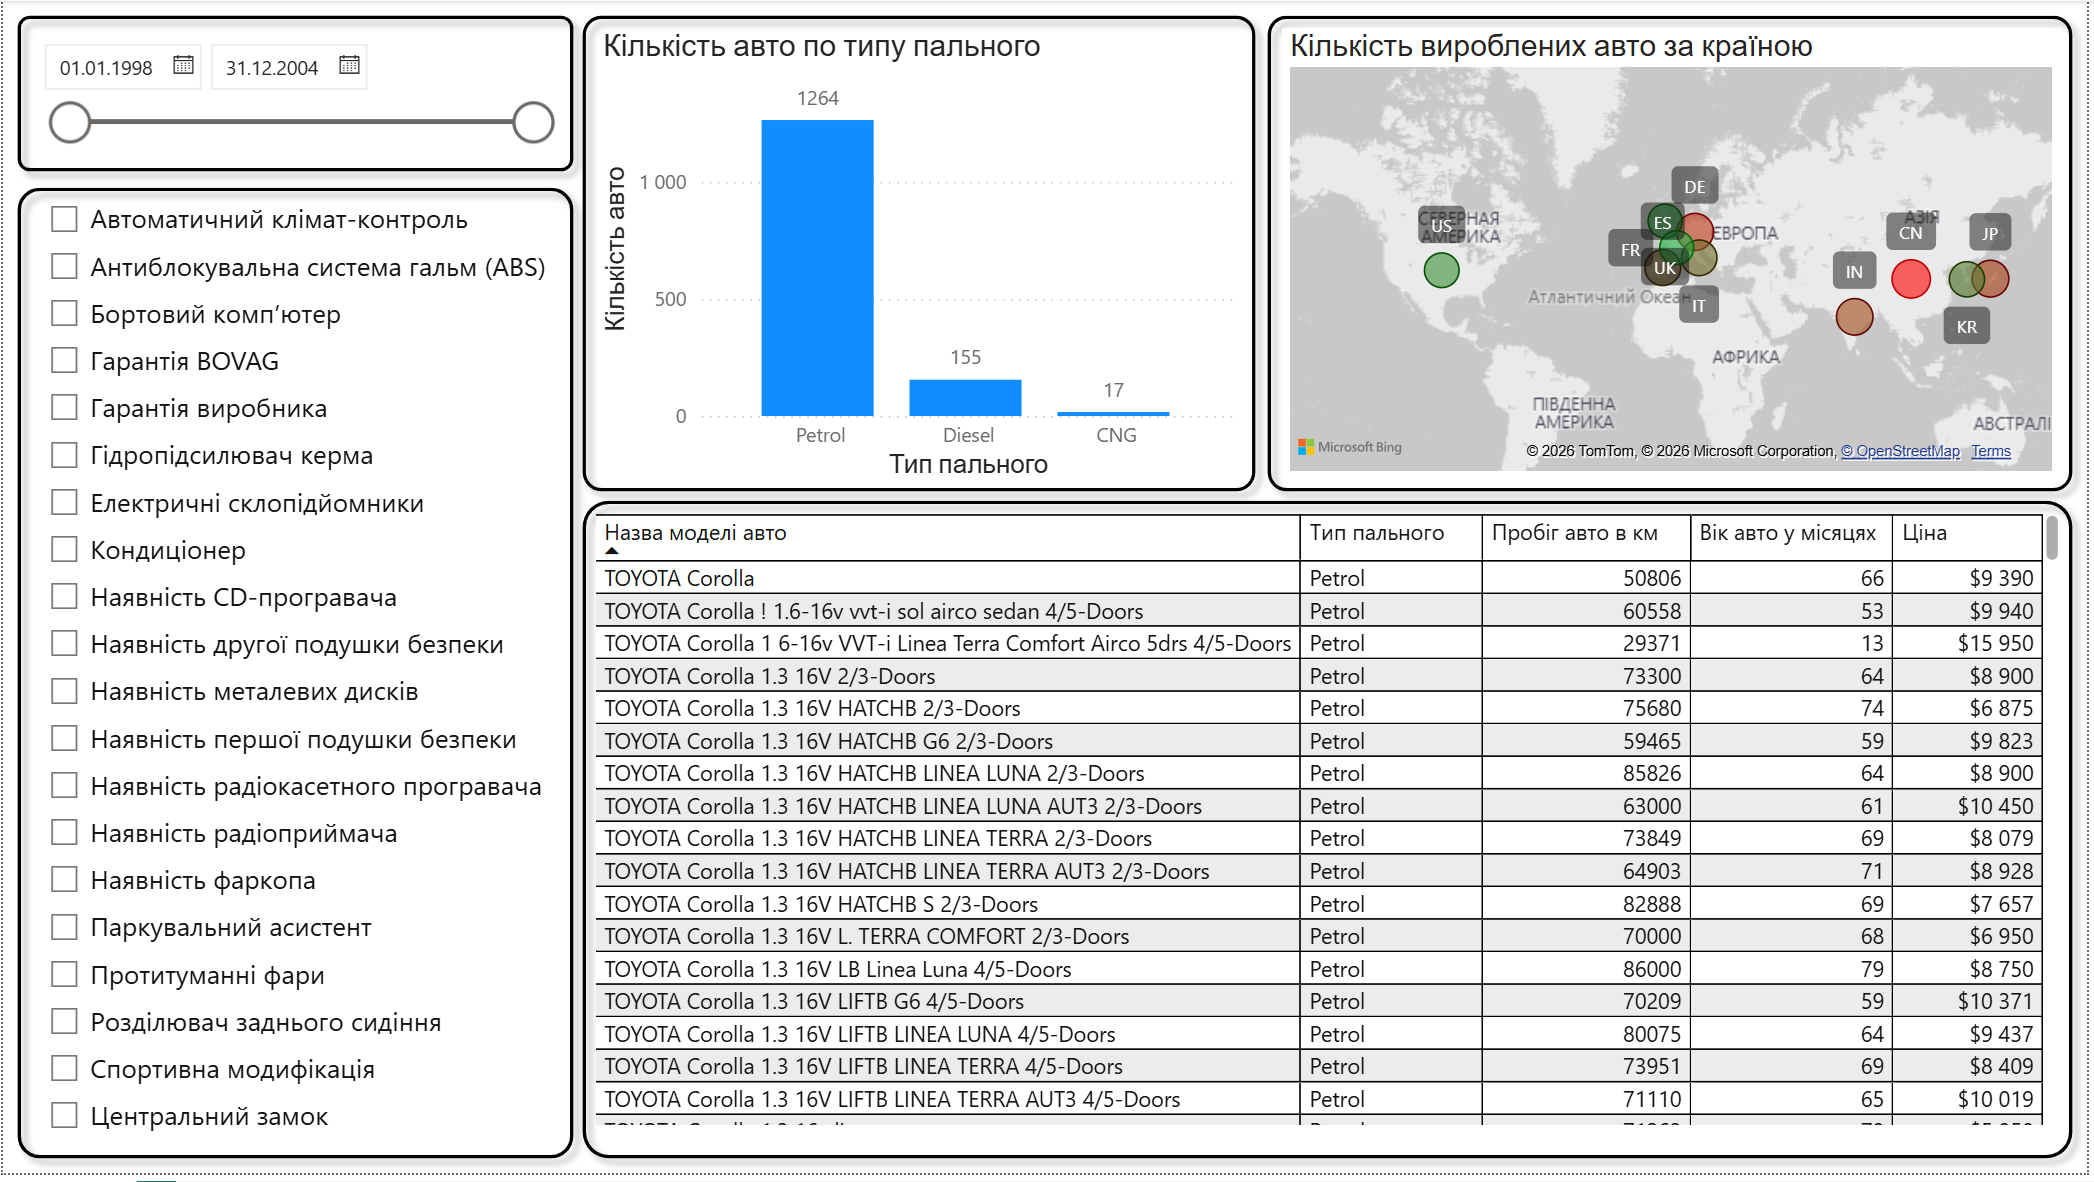

Layout of this report page (visuals, bound fields, positions):
{"tool":"powerbi","page":{"name":"Деталі","canvas":[1280,720],"ordinal":1},"visuals":[{"type":"shape","box":[347.1,298,933.2,422],"z":0},{"type":"shape","box":[0,105.7,359.4,614.3],"z":1000},{"type":"shape","box":[0,0,359.4,113.7],"z":2000},{"type":"pivotTable","fields":{"Rows":["Car_Table.Model_Name"],"Values":["Min(Specifications_Table.Fuel_Type)","Avg(Manufacturing_Table.Kilometers_Driven)","Avg(Car_Table.Age_Months)","Avg(Car_Table.Selling_Price)"]},"box":[359.4,310.2,909.2,385.2],"z":3000},{"type":"slicer","fields":{"Values":["Feature_Filter.Feature"]},"box":[16.6,113.7,326.8,592.2],"z":4000},{"type":"slicer","fields":{"Values":["Calendar.Date"]},"box":[12.9,16.6,334.2,89.1],"z":5000},{"type":"shape","box":[767.9,0,512.4,310.2],"z":6000},{"type":"shape","box":[347.1,0,431.3,310.2],"z":7000},{"type":"columnChart","title":"Кількість авто по типу пального","fields":{"Category":["Specifications_Table.Fuel_Type"],"Y":["CountNonNull(Car_Table.Model_Name)"]},"box":[363.7,16.6,398.1,281.4],"z":8000},{"type":"map","title":"Кількість вироблених авто за країною","fields":{"Category":["Car_Table.Country_Assembly"],"Size":["CountNonNull(Car_Table.Model_Name)"]},"box":[785.7,16.6,478,277.1],"z":9000}]}

Visuals, with their boxes in screenshot pixels (x1, y1, x2, y2), scaled from the page's 1280x720 canvas onto the 2094x1182 screenshot:
shape: box=[568, 489, 2093, 1181]
shape: box=[0, 174, 588, 1181]
shape: box=[0, 0, 588, 187]
pivotTable - Car_Table.Model_Name x Min(Specifications_Table.Fuel_Type): box=[588, 509, 2075, 1142]
slicer - Feature_Filter.Feature: box=[27, 187, 562, 1159]
slicer - Calendar.Date: box=[21, 27, 568, 174]
shape: box=[1256, 0, 2093, 509]
shape: box=[568, 0, 1273, 509]
"Кількість авто по типу пального" columnChart: box=[595, 27, 1246, 489]
"Кількість вироблених авто за країною" map: box=[1285, 27, 2067, 482]
